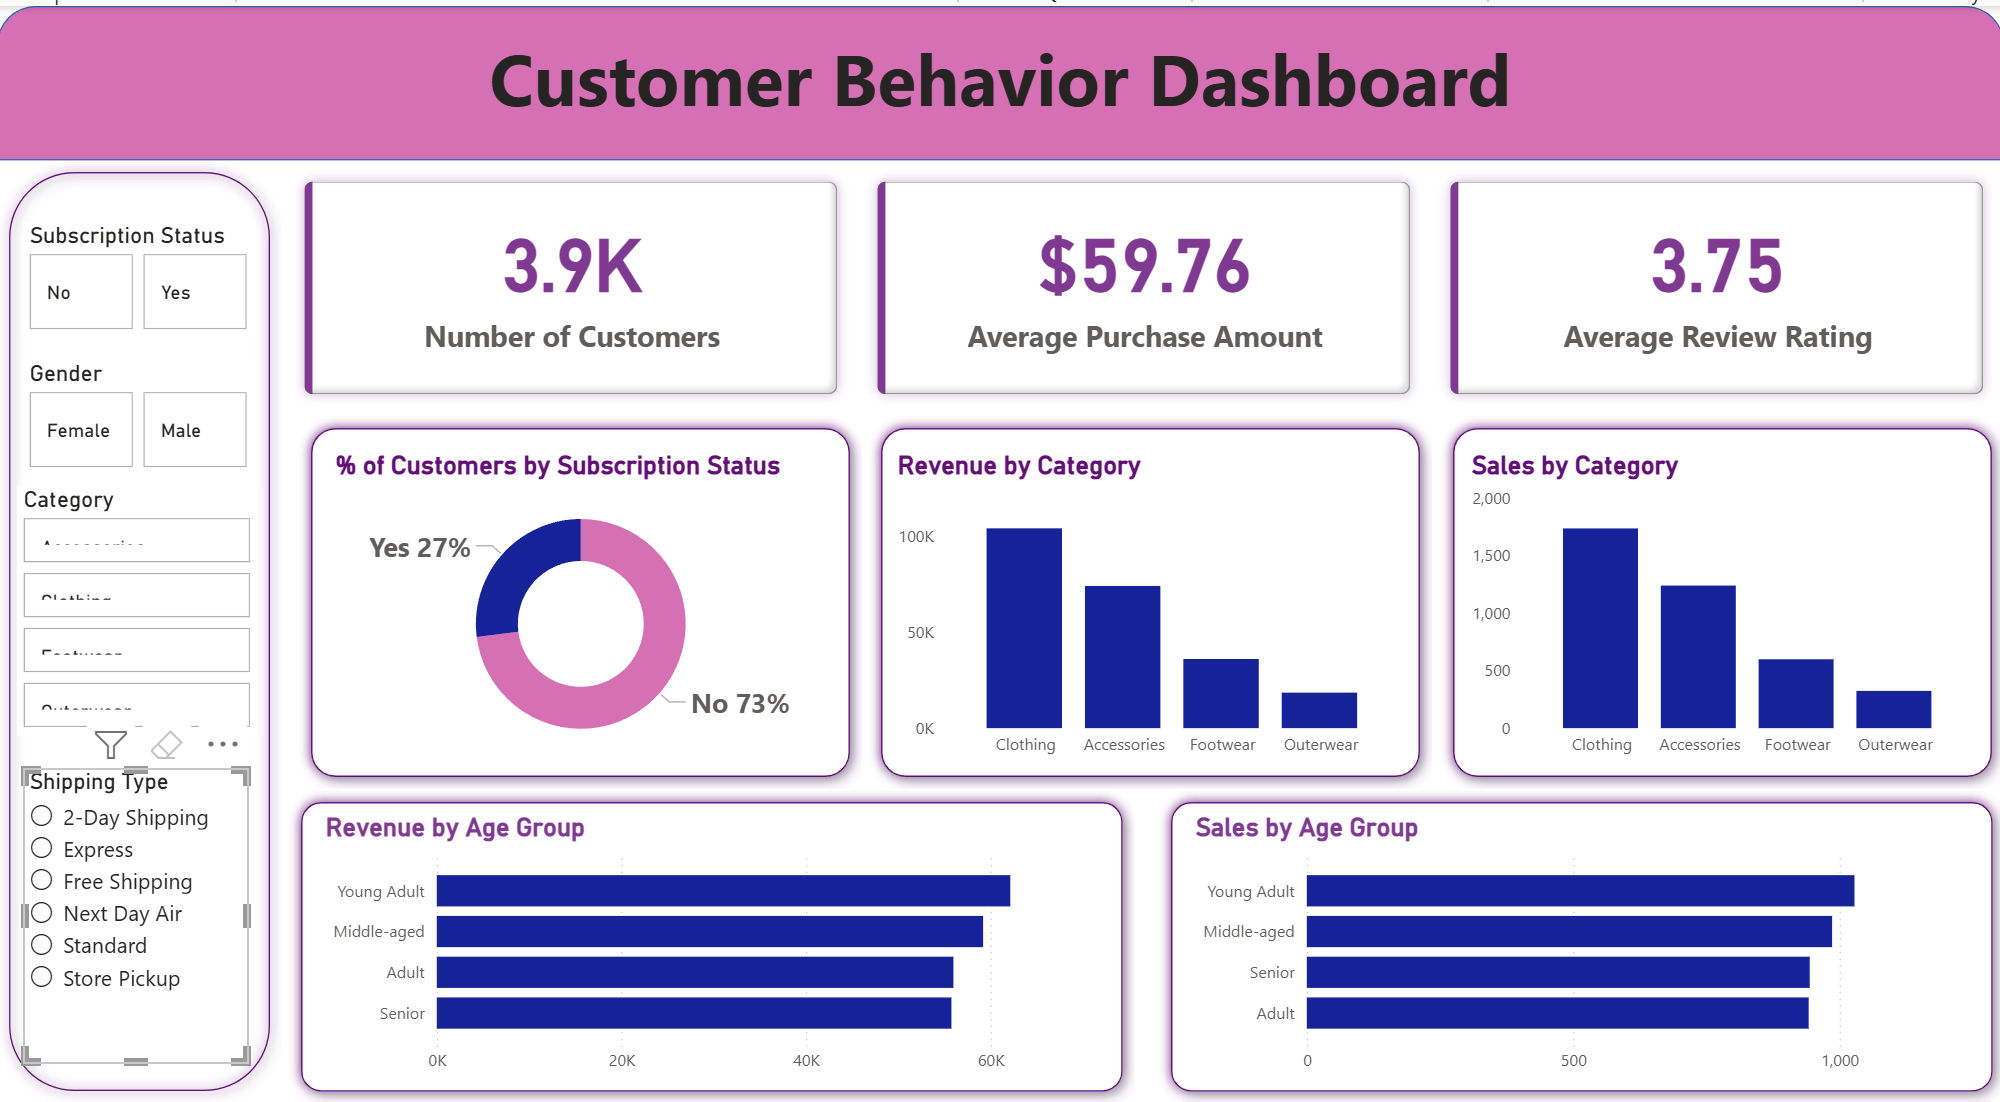

The dashboard page shown, as its layout file describes it:
{"tool":"powerbi","page":{"name":"Page 1","canvas":[1500,820],"ordinal":0},"visuals":[{"type":"cardVisual","fields":{"Data":["public customer.Number of Customers","public customer.Average Purchase Amount","public customer.Average Review Rating"]},"box":[212.9,115.3,1286.5,191.6],"z":2000},{"type":"shape","box":[218.3,585.6,631.7,234.2],"z":2500,"group":"g1"},{"type":"shape","box":[0,0,1499.4,115.3],"z":3000},{"type":"textbox","box":[0,12.4,1499.4,102.9],"z":4000},{"type":"shape","box":[225.4,307,420.5,278.6],"z":5000},{"type":"donutChart","title":"% of Customers by Subscription Status","fields":{"Category":["public customer.subscription_status"],"Y":["Sum(public customer.customer_id)"]},"box":[248.4,331.8,376.2,237.8],"z":6000},{"type":"shape","box":[1078.9,307,420.5,278.6],"z":7000},{"type":"shape","box":[652.1,307,420.5,278.6],"z":8000},{"type":"clusteredColumnChart","title":"Revenue by Category","fields":{"Y":["Sum(public customer.purchase_amount)"],"Category":["public customer.category"]},"box":[667.2,331.8,385.1,237.8],"z":9000},{"type":"clusteredColumnChart","title":"Sales by Category","fields":{"Y":["Sum(public customer.customer_id)"],"Category":["public customer.category"]},"box":[1096.6,331.8,385.1,237.8],"z":10000},{"type":"shape","box":[0,115.3,212.9,704.5],"z":11000},{"type":"advancedSlicerVisual","fields":{"Values":["public customer.subscription_status"]},"box":[19.5,161.5,173.9,85.2],"z":12000},{"type":"advancedSlicerVisual","fields":{"Values":["public customer.gender"]},"box":[19.5,264.4,173.9,85.2],"z":13000},{"type":"advancedSlicerVisual","fields":{"Values":["public customer.category"]},"box":[14.2,358.4,179.2,186.3],"z":14000},{"type":"listSlicer","fields":{"Values":["public customer.shipping_type"]},"box":[19.5,569.6,168.6,220],"z":15000},{"type":"shape","box":[867.7,585.6,631.7,234.2],"z":16000},{"type":"clusteredBarChart","title":"Sales by Age Group","fields":{"Y":["Sum(public customer.customer_id)"],"Category":["public customer.age_group"]},"box":[890.8,601.5,585.6,204.1],"z":17000},{"type":"clusteredBarChart","title":"Revenue by Age Group","fields":{"Y":["Sum(public customer.purchase_amount)"],"Category":["public customer.age_group"]},"box":[241.4,601.6,585.6,204.1],"z":17500,"group":"g1"},{"type":"group","id":"g1","title":"Group 1","box":[218.3,585.6,631.7,234.2],"z":17501}]}

Visuals, with their boxes in screenshot pixels (x1, y1, x2, y2), scaled from the page's 1500x820 canvas onto the 2000x1102 screenshot:
cardVisual - public customer.Number of Customers x public customer.Average Purchase Amount: 284:155:1999:412
shape: 291:787:1133:1101
shape: 0:0:1999:155
textbox: 0:17:1999:155
shape: 301:413:861:787
"% of Customers by Subscription Status" donutChart: 331:446:833:765
shape: 1439:413:1999:787
shape: 869:413:1430:787
"Revenue by Category" clusteredColumnChart: 890:446:1403:765
"Sales by Category" clusteredColumnChart: 1462:446:1976:765
shape: 0:155:284:1101
advancedSlicerVisual - public customer.subscription_status: 26:217:258:332
advancedSlicerVisual - public customer.gender: 26:355:258:470
advancedSlicerVisual - public customer.category: 19:482:258:732
listSlicer - public customer.shipping_type: 26:765:251:1061
shape: 1157:787:1999:1101
"Sales by Age Group" clusteredBarChart: 1188:808:1969:1083
"Revenue by Age Group" clusteredBarChart: 322:808:1103:1083
"Group 1" group: 291:787:1133:1101
